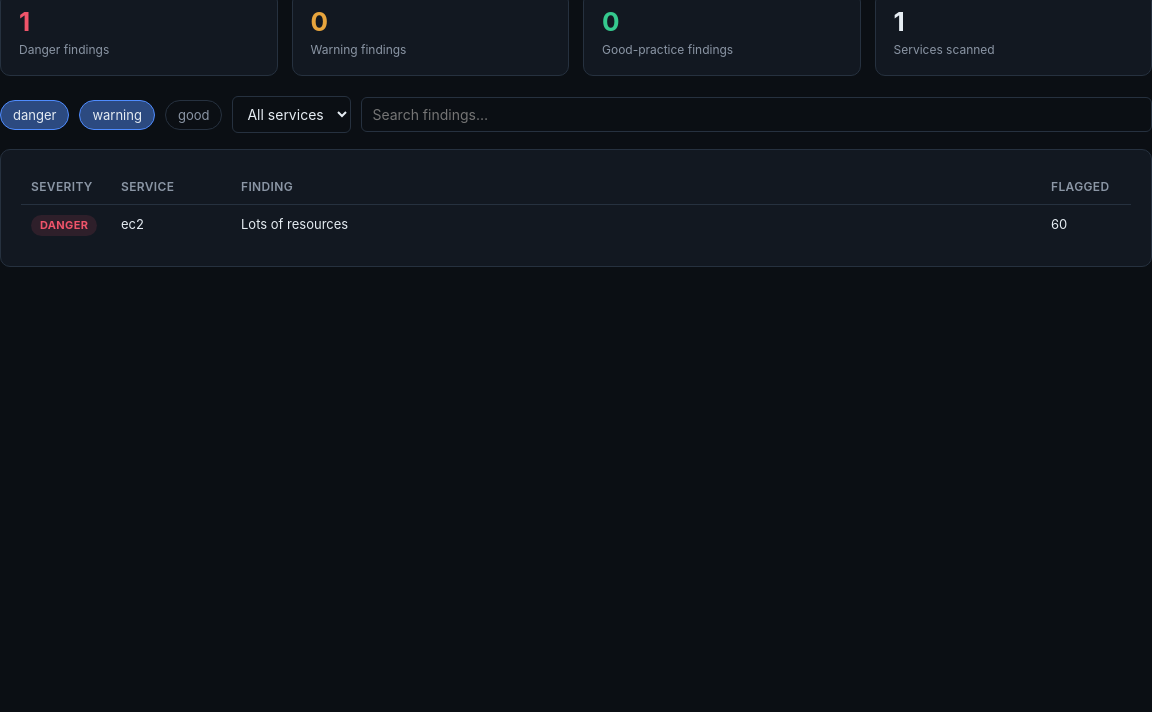
Test: FindingsView › truncates a long affected-resources list and shows a remainder count
The image size is (1152, 712).
Click the text "Lots of resources".
click(295, 224)  # box [231,204,1041,246]
(page scrolled)
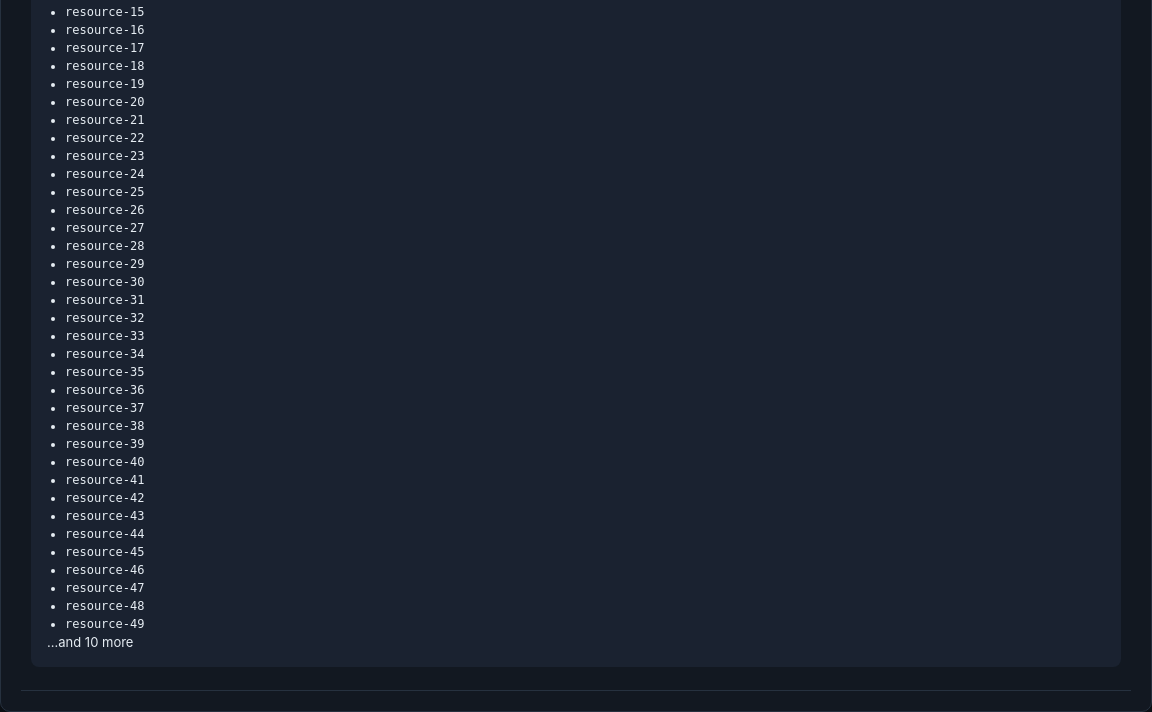
Now the list item "resource-49" is shown, box [65,617,144,631]
Now the text "…and 10 more" is shown, box [47,634,134,650]
